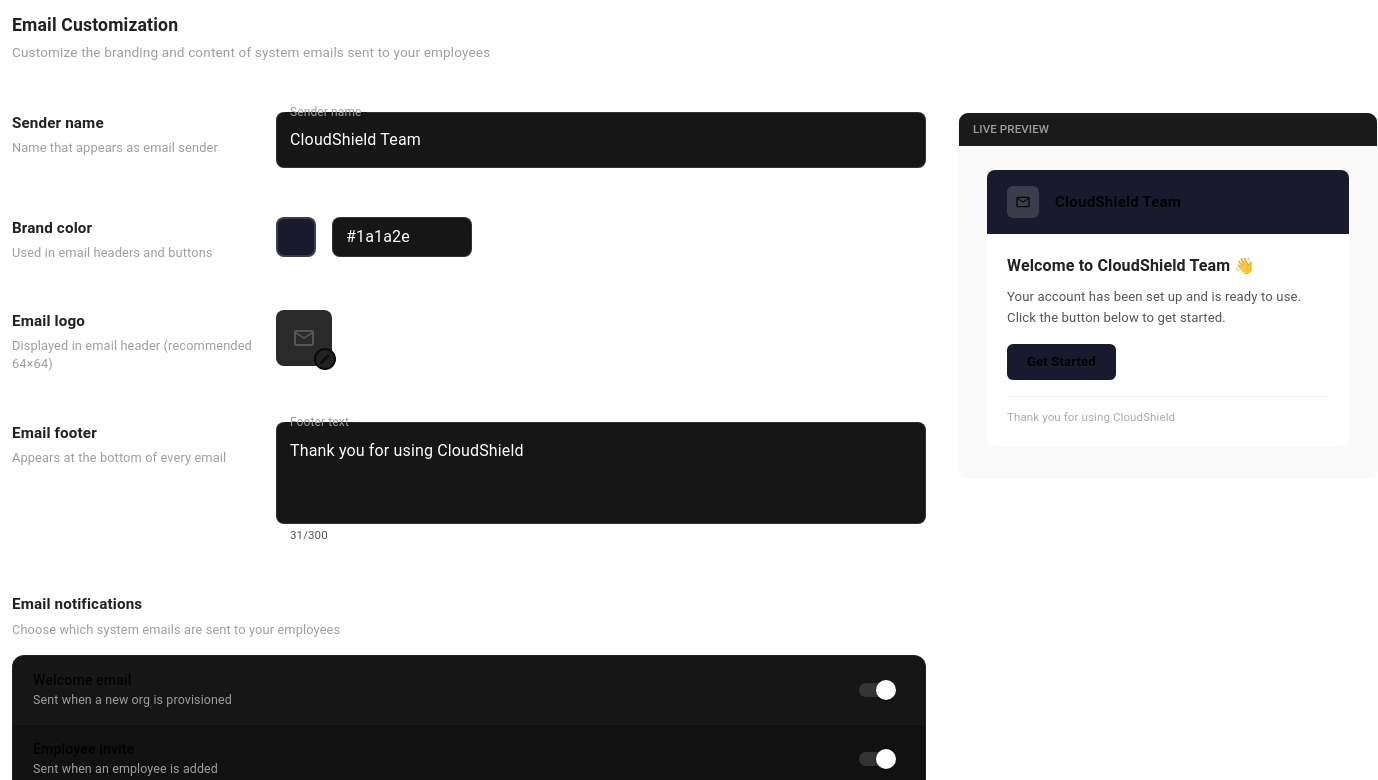
Test: EmailCustomizationTab › preview updates when sender name changes
Replace the text in the field showing "CloudShield Team" with "New Name" at {"x": 601, "y": 140}, box 276,112 -> 926,168
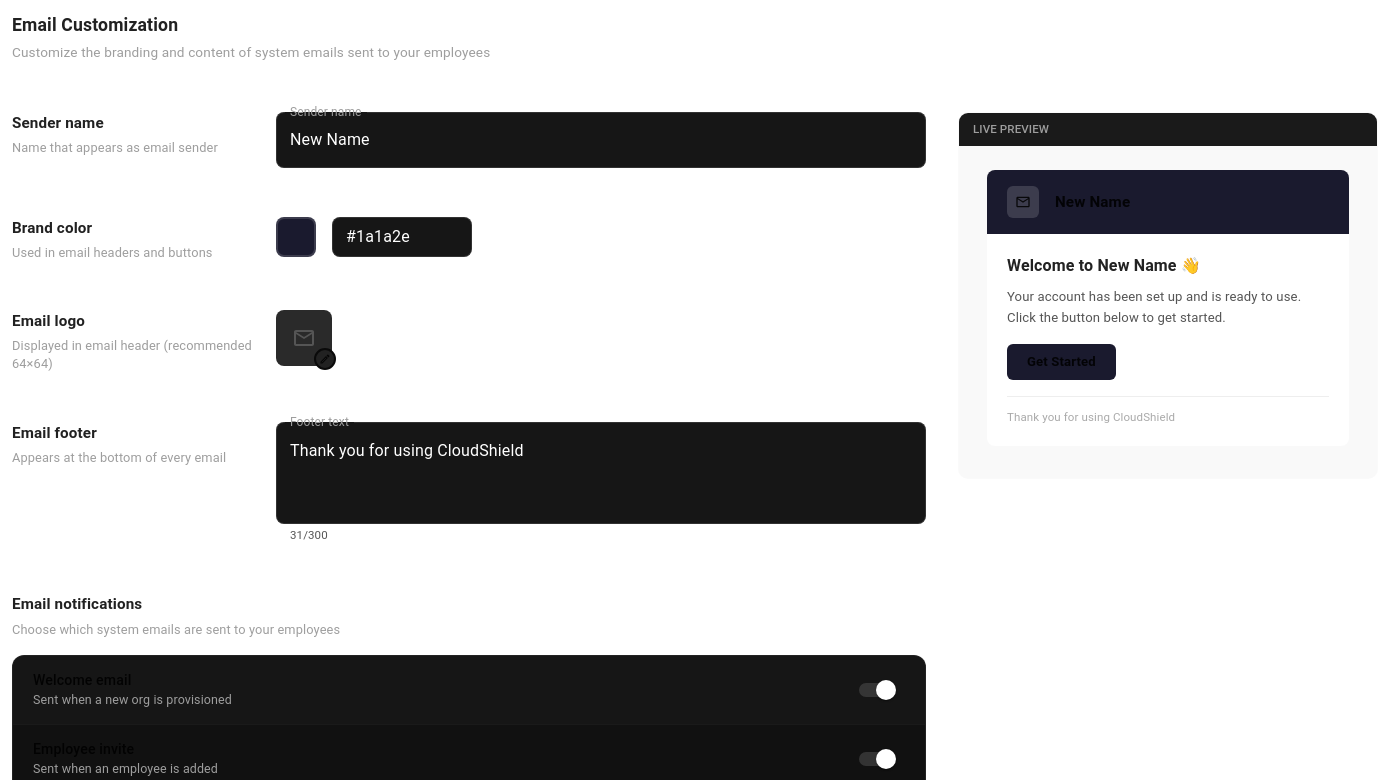
Expected: the text "New Name" is shown, 1055,191 -> 1130,213
